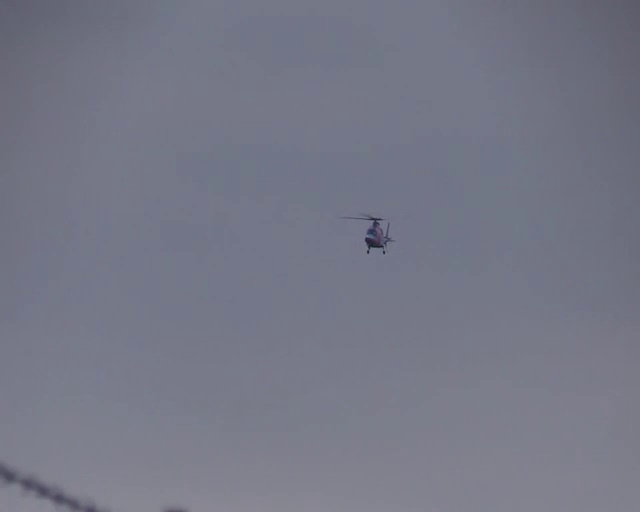HELICOPTER: (337, 212, 396, 255)
